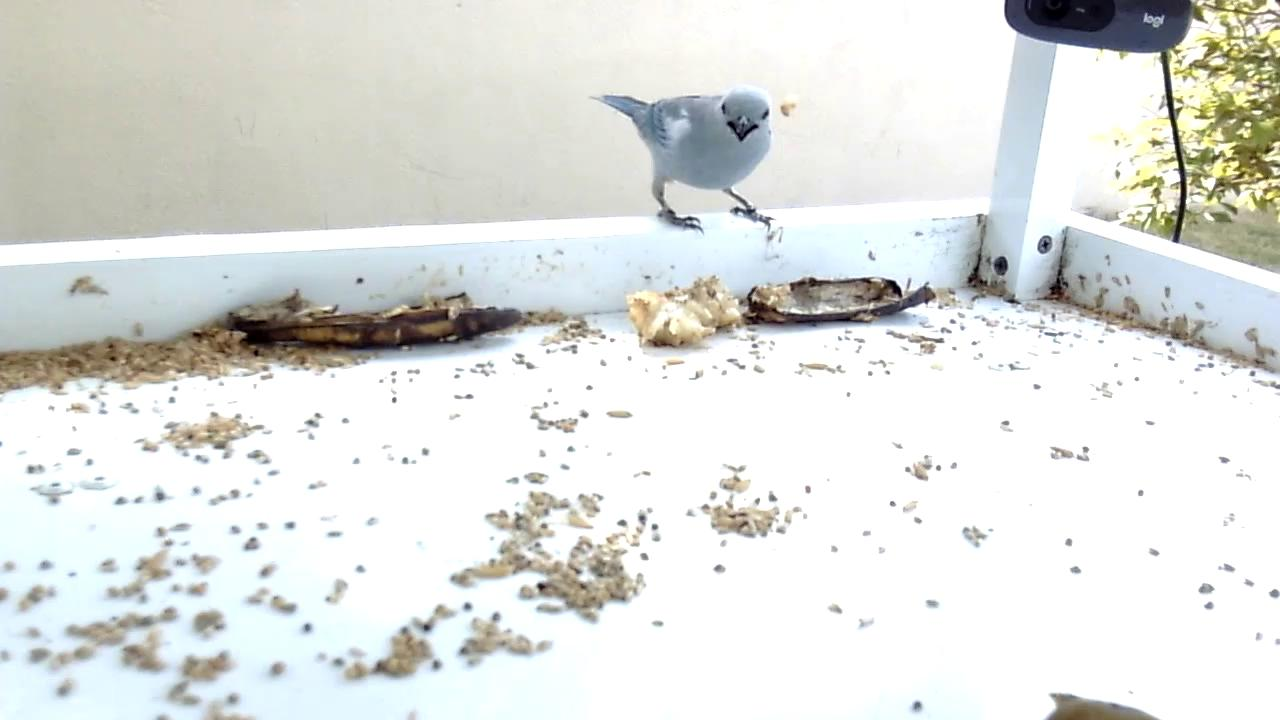sanhaco_da_amazonia: (588, 87, 777, 235)
